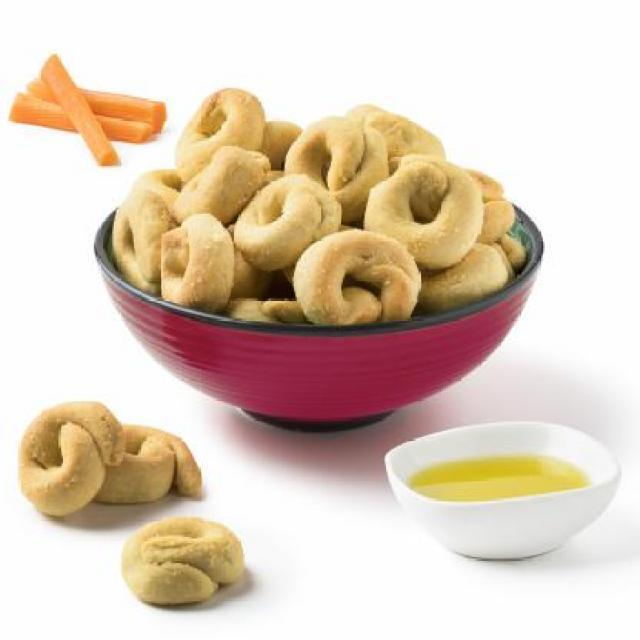Taralli: (108, 75, 516, 332), (11, 402, 248, 610)
